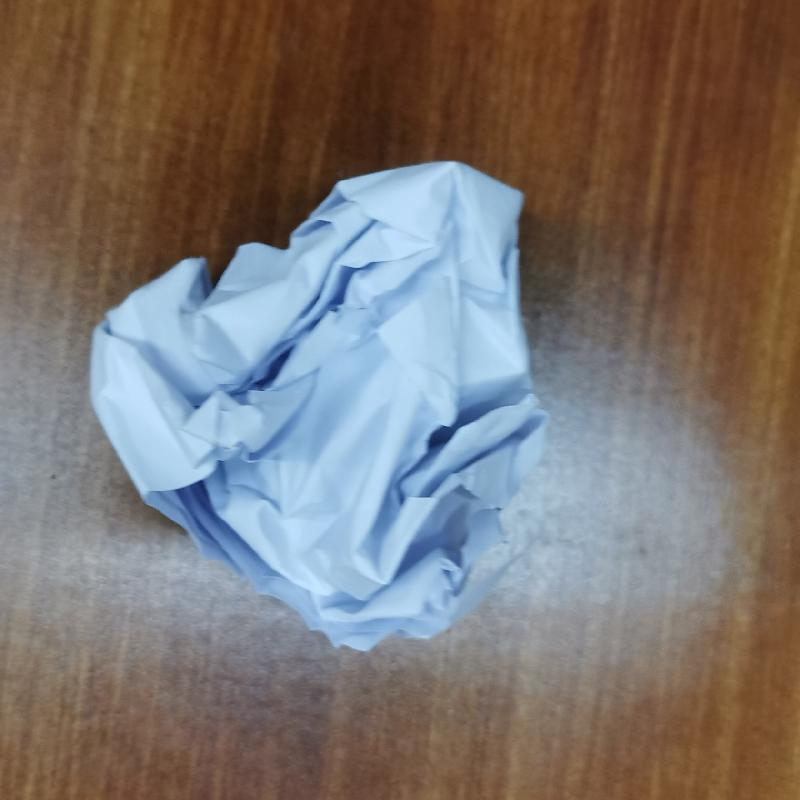spitball: (81, 154, 554, 657)
